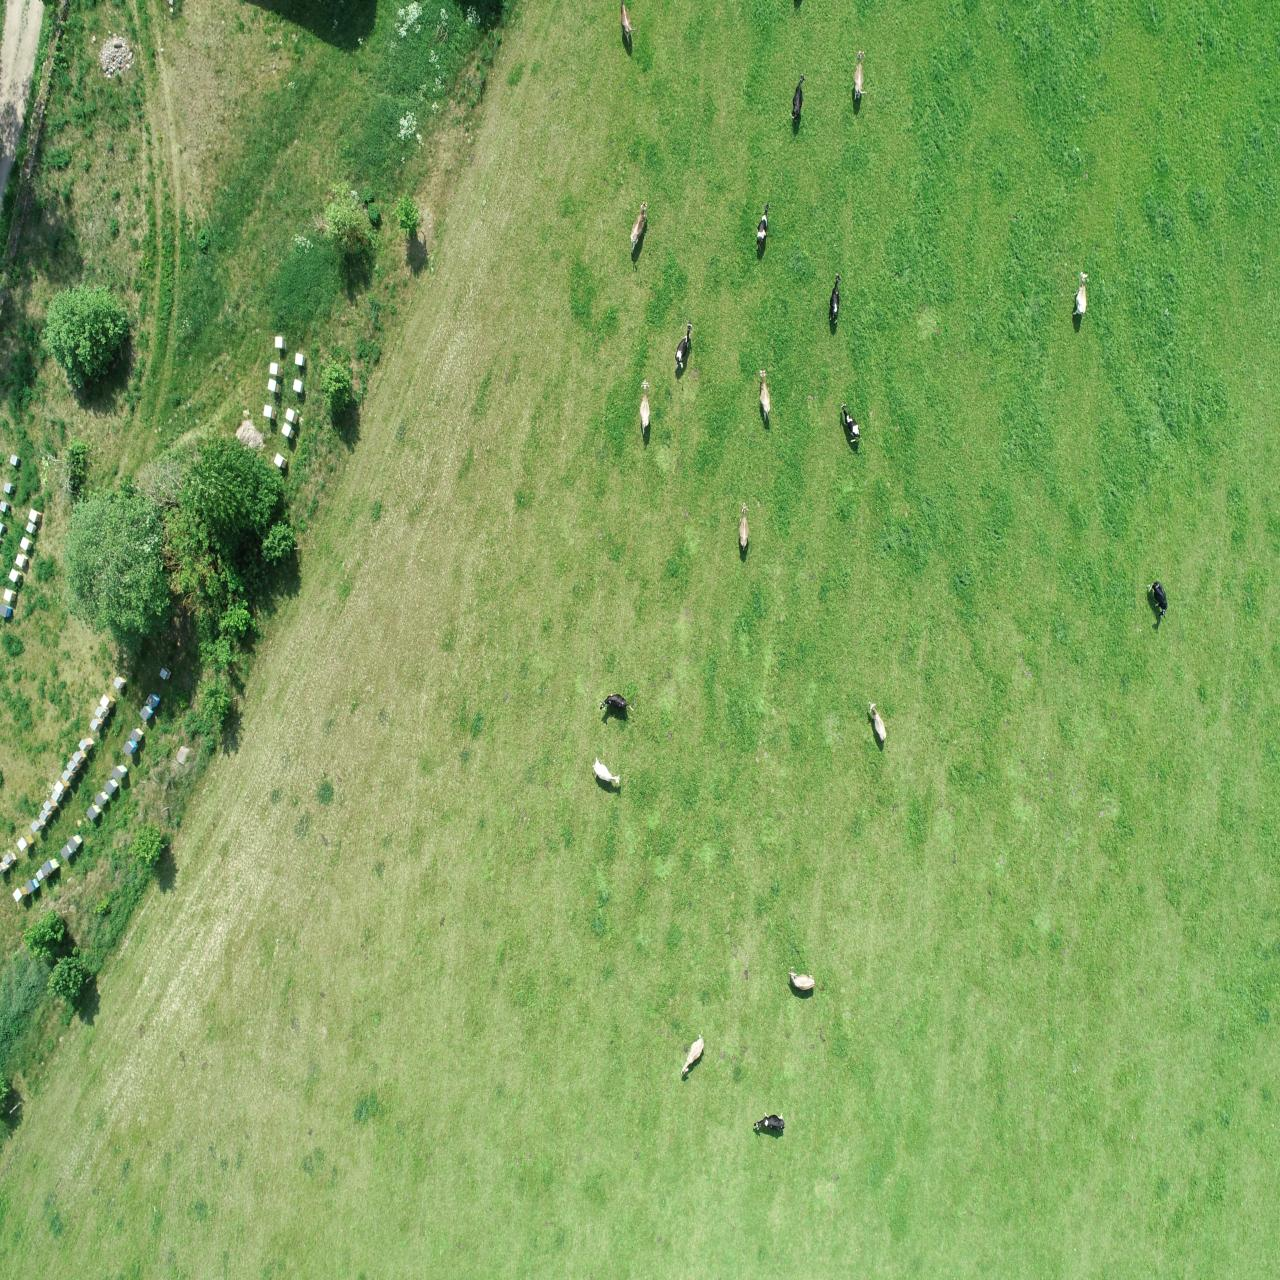cow: (673, 316, 694, 380), (627, 197, 648, 258), (678, 1033, 704, 1078), (788, 72, 809, 129), (1144, 577, 1170, 624), (590, 755, 622, 791), (753, 202, 774, 258), (838, 400, 863, 448), (1069, 268, 1092, 319), (865, 699, 891, 744), (597, 692, 635, 721), (753, 1108, 787, 1141), (828, 268, 844, 334), (635, 379, 653, 438), (787, 964, 817, 998), (755, 368, 772, 427), (617, 1, 639, 47), (734, 501, 753, 553), (852, 48, 870, 103)
